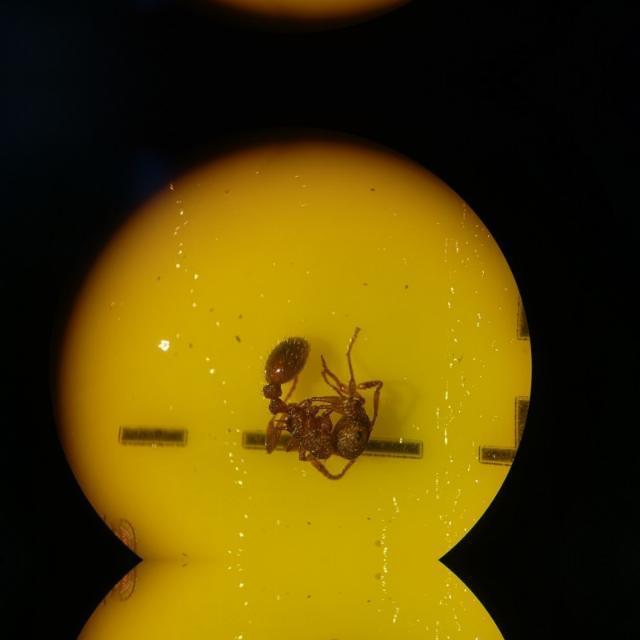Myrmica: (232, 311, 400, 497)
